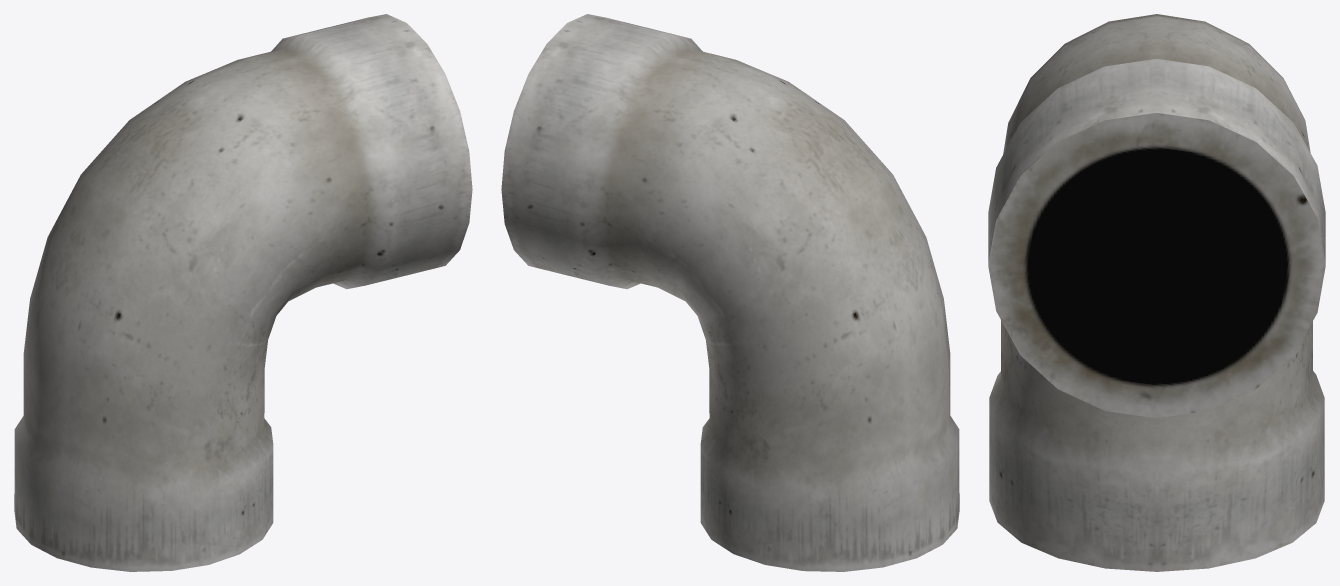
The model's file is PlasticPipe_11a_snaps011.fbx.
3 views of the same model, side by side, from view 1: azimuth 30°, elevation 25°; view 2: azimuth 150°, elevation 25°; view 3: azimuth 270°, elevation 25° (orthographic). The views are drawn at different scales.
Visible parts, largest first — view 1: PlasticPipe_11a_snaps011_LOD0; view 2: PlasticPipe_11a_snaps011_LOD0; view 3: PlasticPipe_11a_snaps011_LOD0.
Boxes of the visible parts, x1,y1,x2,y2 form: PlasticPipe_11a_snaps011_LOD0: [14, 14, 472, 571]; PlasticPipe_11a_snaps011_LOD0: [501, 14, 959, 571]; PlasticPipe_11a_snaps011_LOD0: [988, 14, 1325, 571].
Size of what is drawn, in the model's own units: 44.2 by 48.34 by 26.71.
